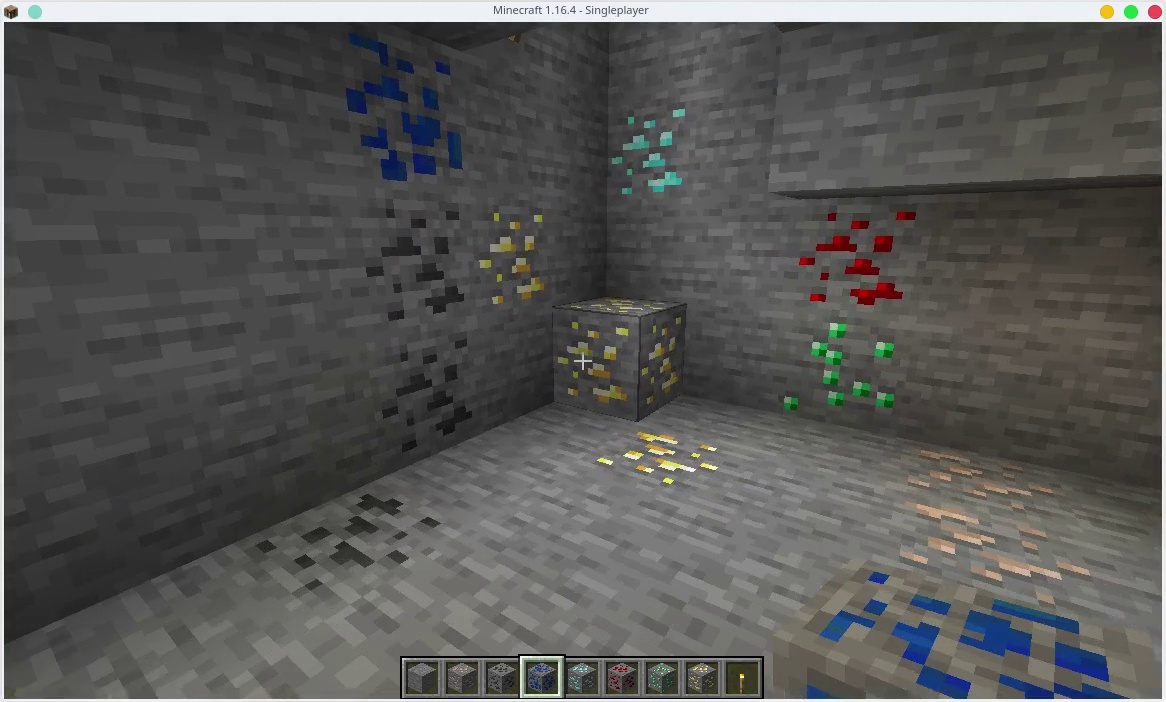gold: (556, 299, 677, 400), (587, 431, 722, 485), (477, 211, 543, 302), (684, 664, 720, 690)
